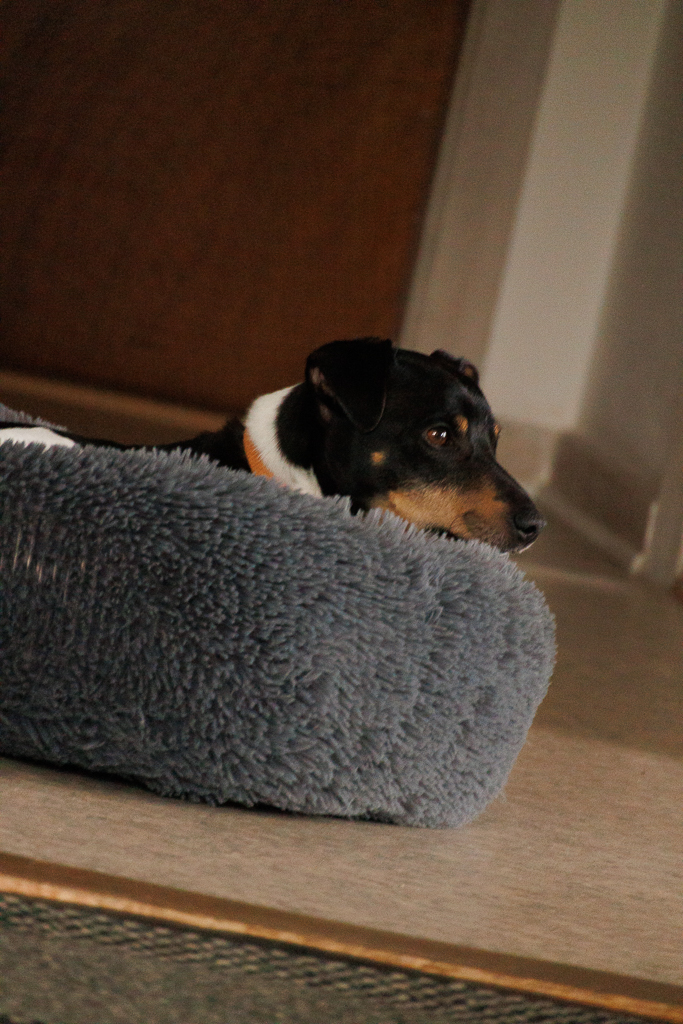Dog: (0, 324, 560, 562)
